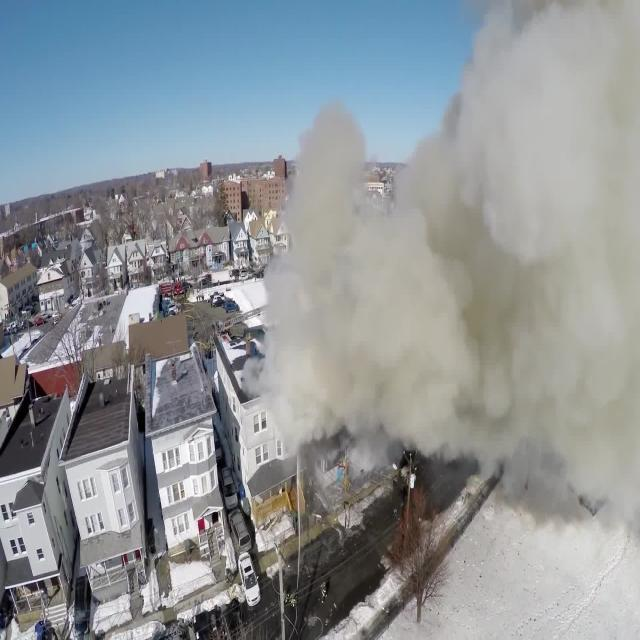Smoke: (251, 0, 640, 513)
